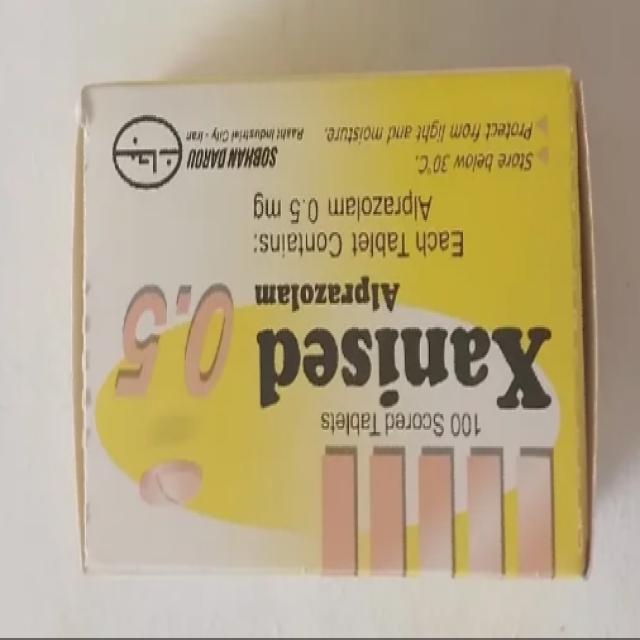drug-name: (252, 325, 554, 412)
